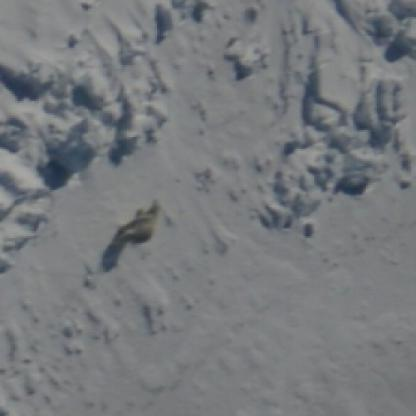polar-bear: (111, 197, 160, 244)
